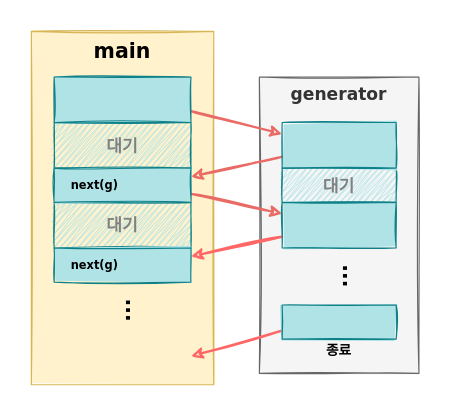
This 449x415 diagram has some shape labels left out. The shapes that lost their labels are listed below. From the top down, each one's centre as x and y in pixels, then its label:
At point (122, 99): "g = generator() next(g)".
At point (338, 144): "... yield 1".
At point (338, 224): "... yield 2".
At point (338, 321): "raise StopIteration".
